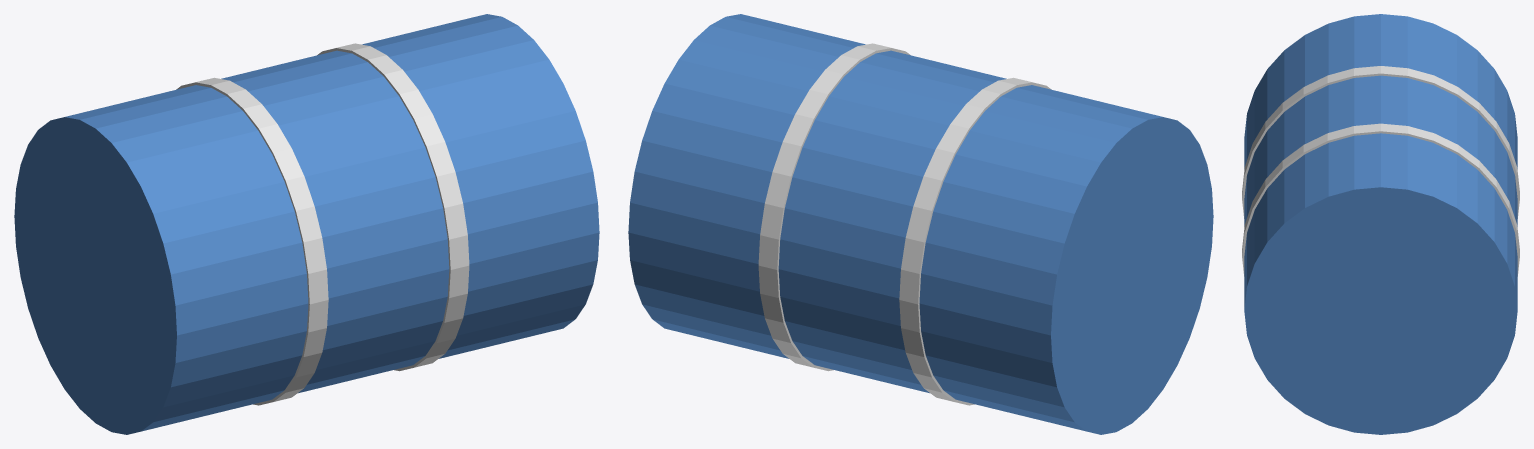
The model's file is oil_drum.glb.
3 views of the same model, side by side, from view 1: azimuth 30°, elevation 25°; view 2: azimuth 150°, elevation 25°; view 3: azimuth 270°, elevation 25° (orthographic). The views are drawn at different scales.
Visible parts, largest first — view 1: part0, part2, part1; view 2: part0, part2, part1; view 3: part0, part1, part2.
Boxes of the visible parts, x1,y1,x2,y2 form: part0: (14,14,599,434); part2: (176,77,328,405); part1: (317,43,469,371); part0: (628,14,1213,434); part2: (899,77,1051,405); part1: (758,43,910,371); part0: (1244,14,1517,434); part1: (1242,123,1519,276); part2: (1242,66,1519,218).
Bounding box in the file's own units: 0.9 × 0.61 × 0.61.
